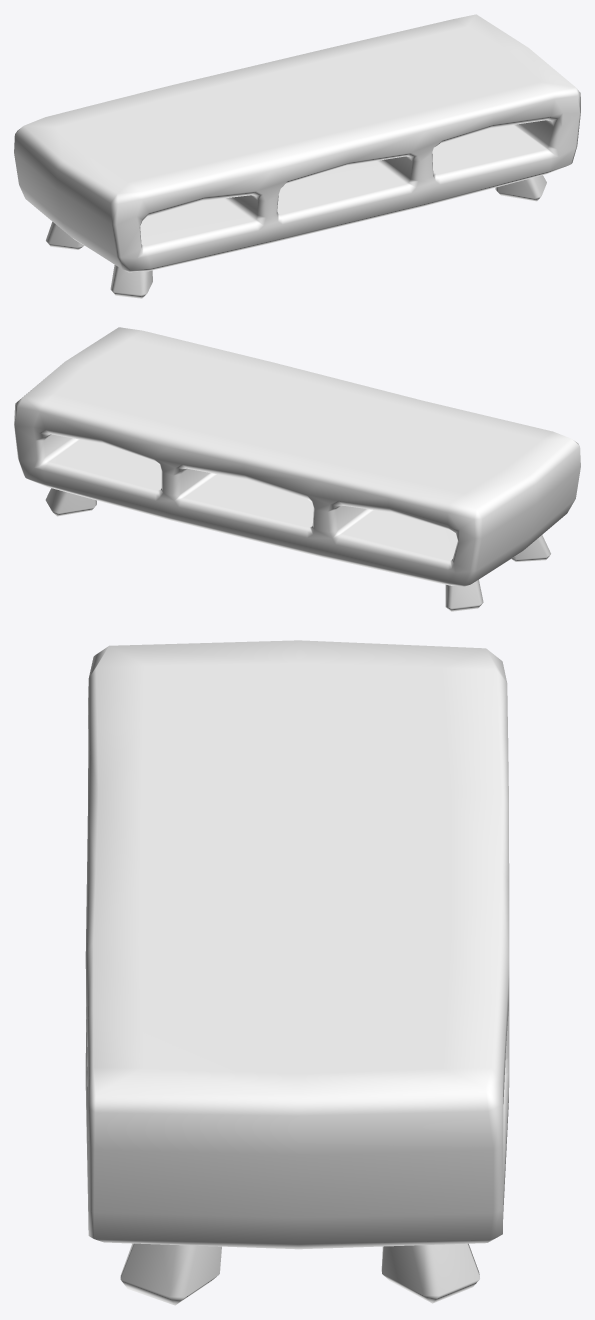
The model's file is P_StoneConsoleTable.glb.
The picture shows the model from 3 angles, top to bottom: view 1: azimuth 30°, elevation 25°; view 2: azimuth 150°, elevation 25°; view 3: azimuth 270°, elevation 25°; orthographic projection. The views are drawn at different scales.
Parts seen in each view (by area): view 1: P_StoneConsoleTable; view 2: P_StoneConsoleTable; view 3: P_StoneConsoleTable.
Part boxes in pixels (left/top/right/bottom): P_StoneConsoleTable: left=14, top=14, right=580, bottom=298; P_StoneConsoleTable: left=14, top=327, right=580, bottom=611; P_StoneConsoleTable: left=85, top=640, right=509, bottom=1305.
Bounding box in the file's own units: 2 × 0.4572 × 0.7658.
1 material, 1 textured.
